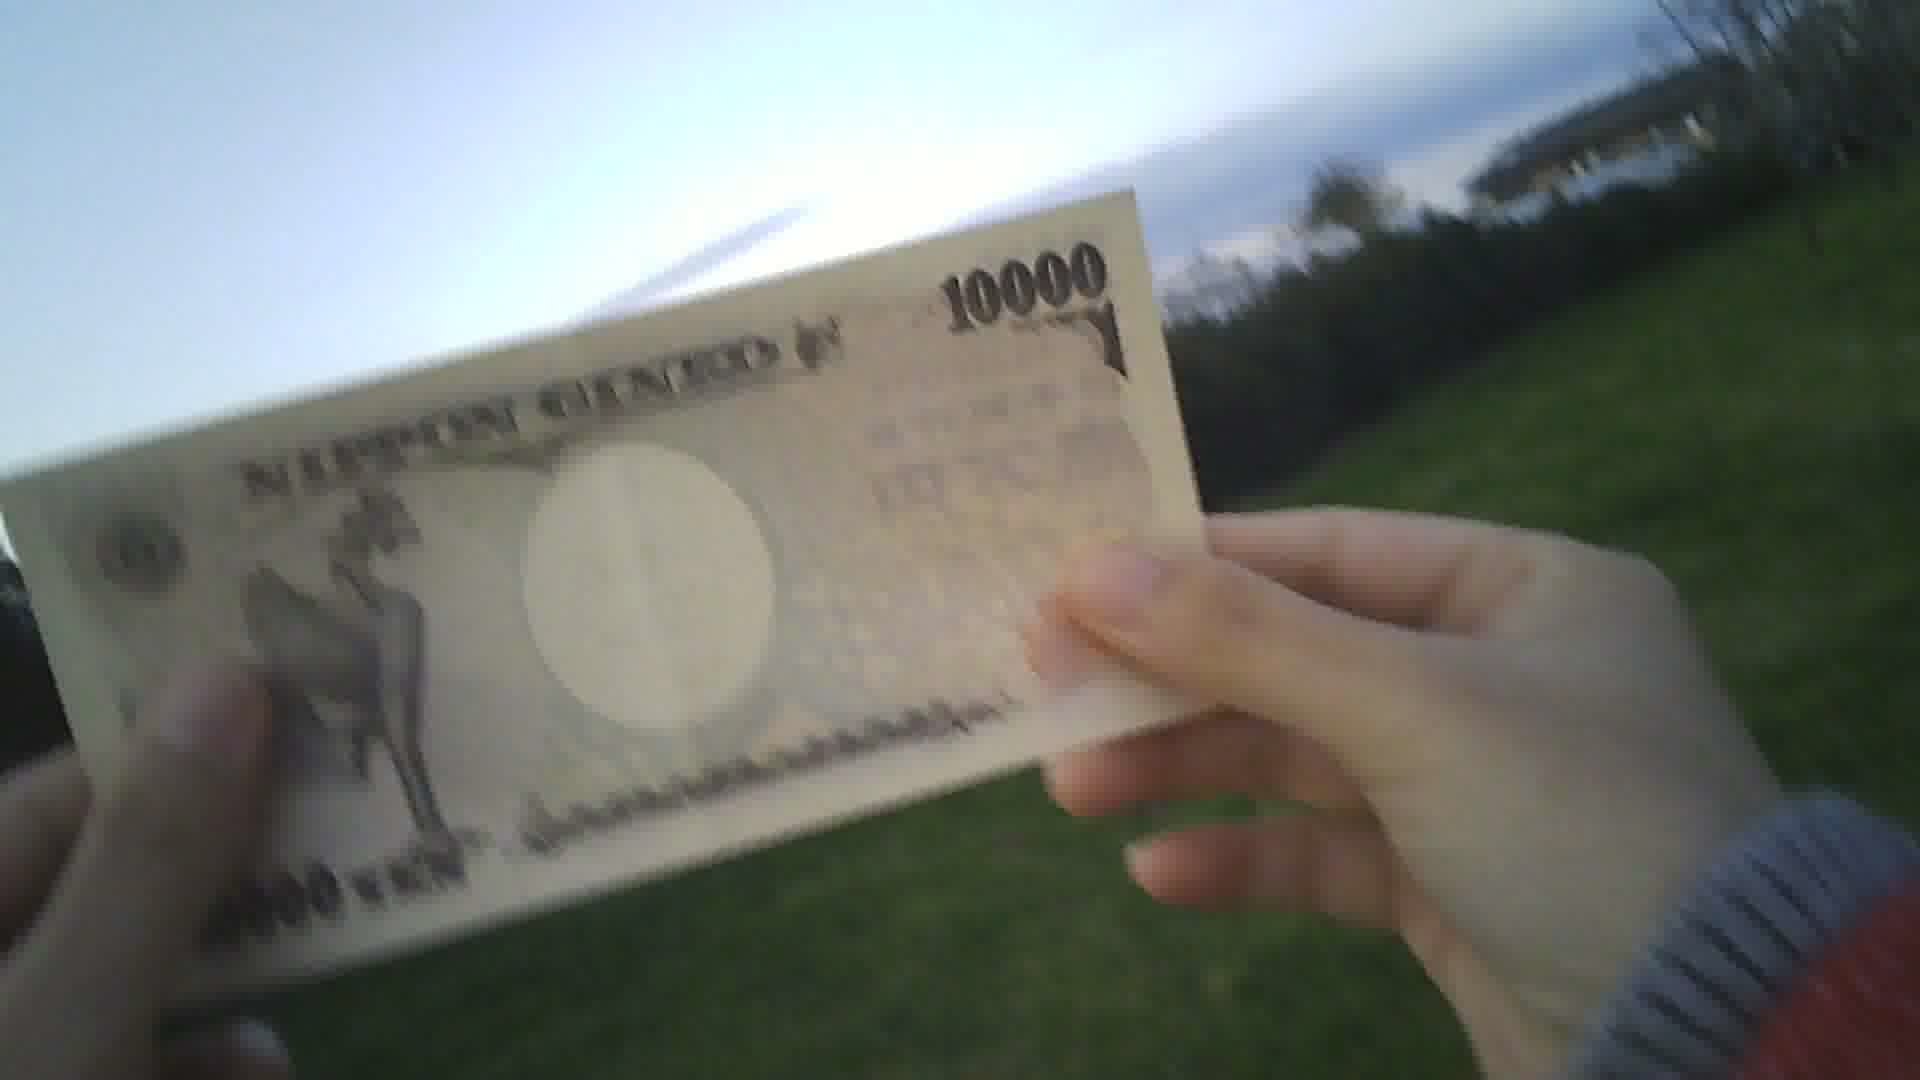10,000 Yen: (24, 210, 1224, 964)
